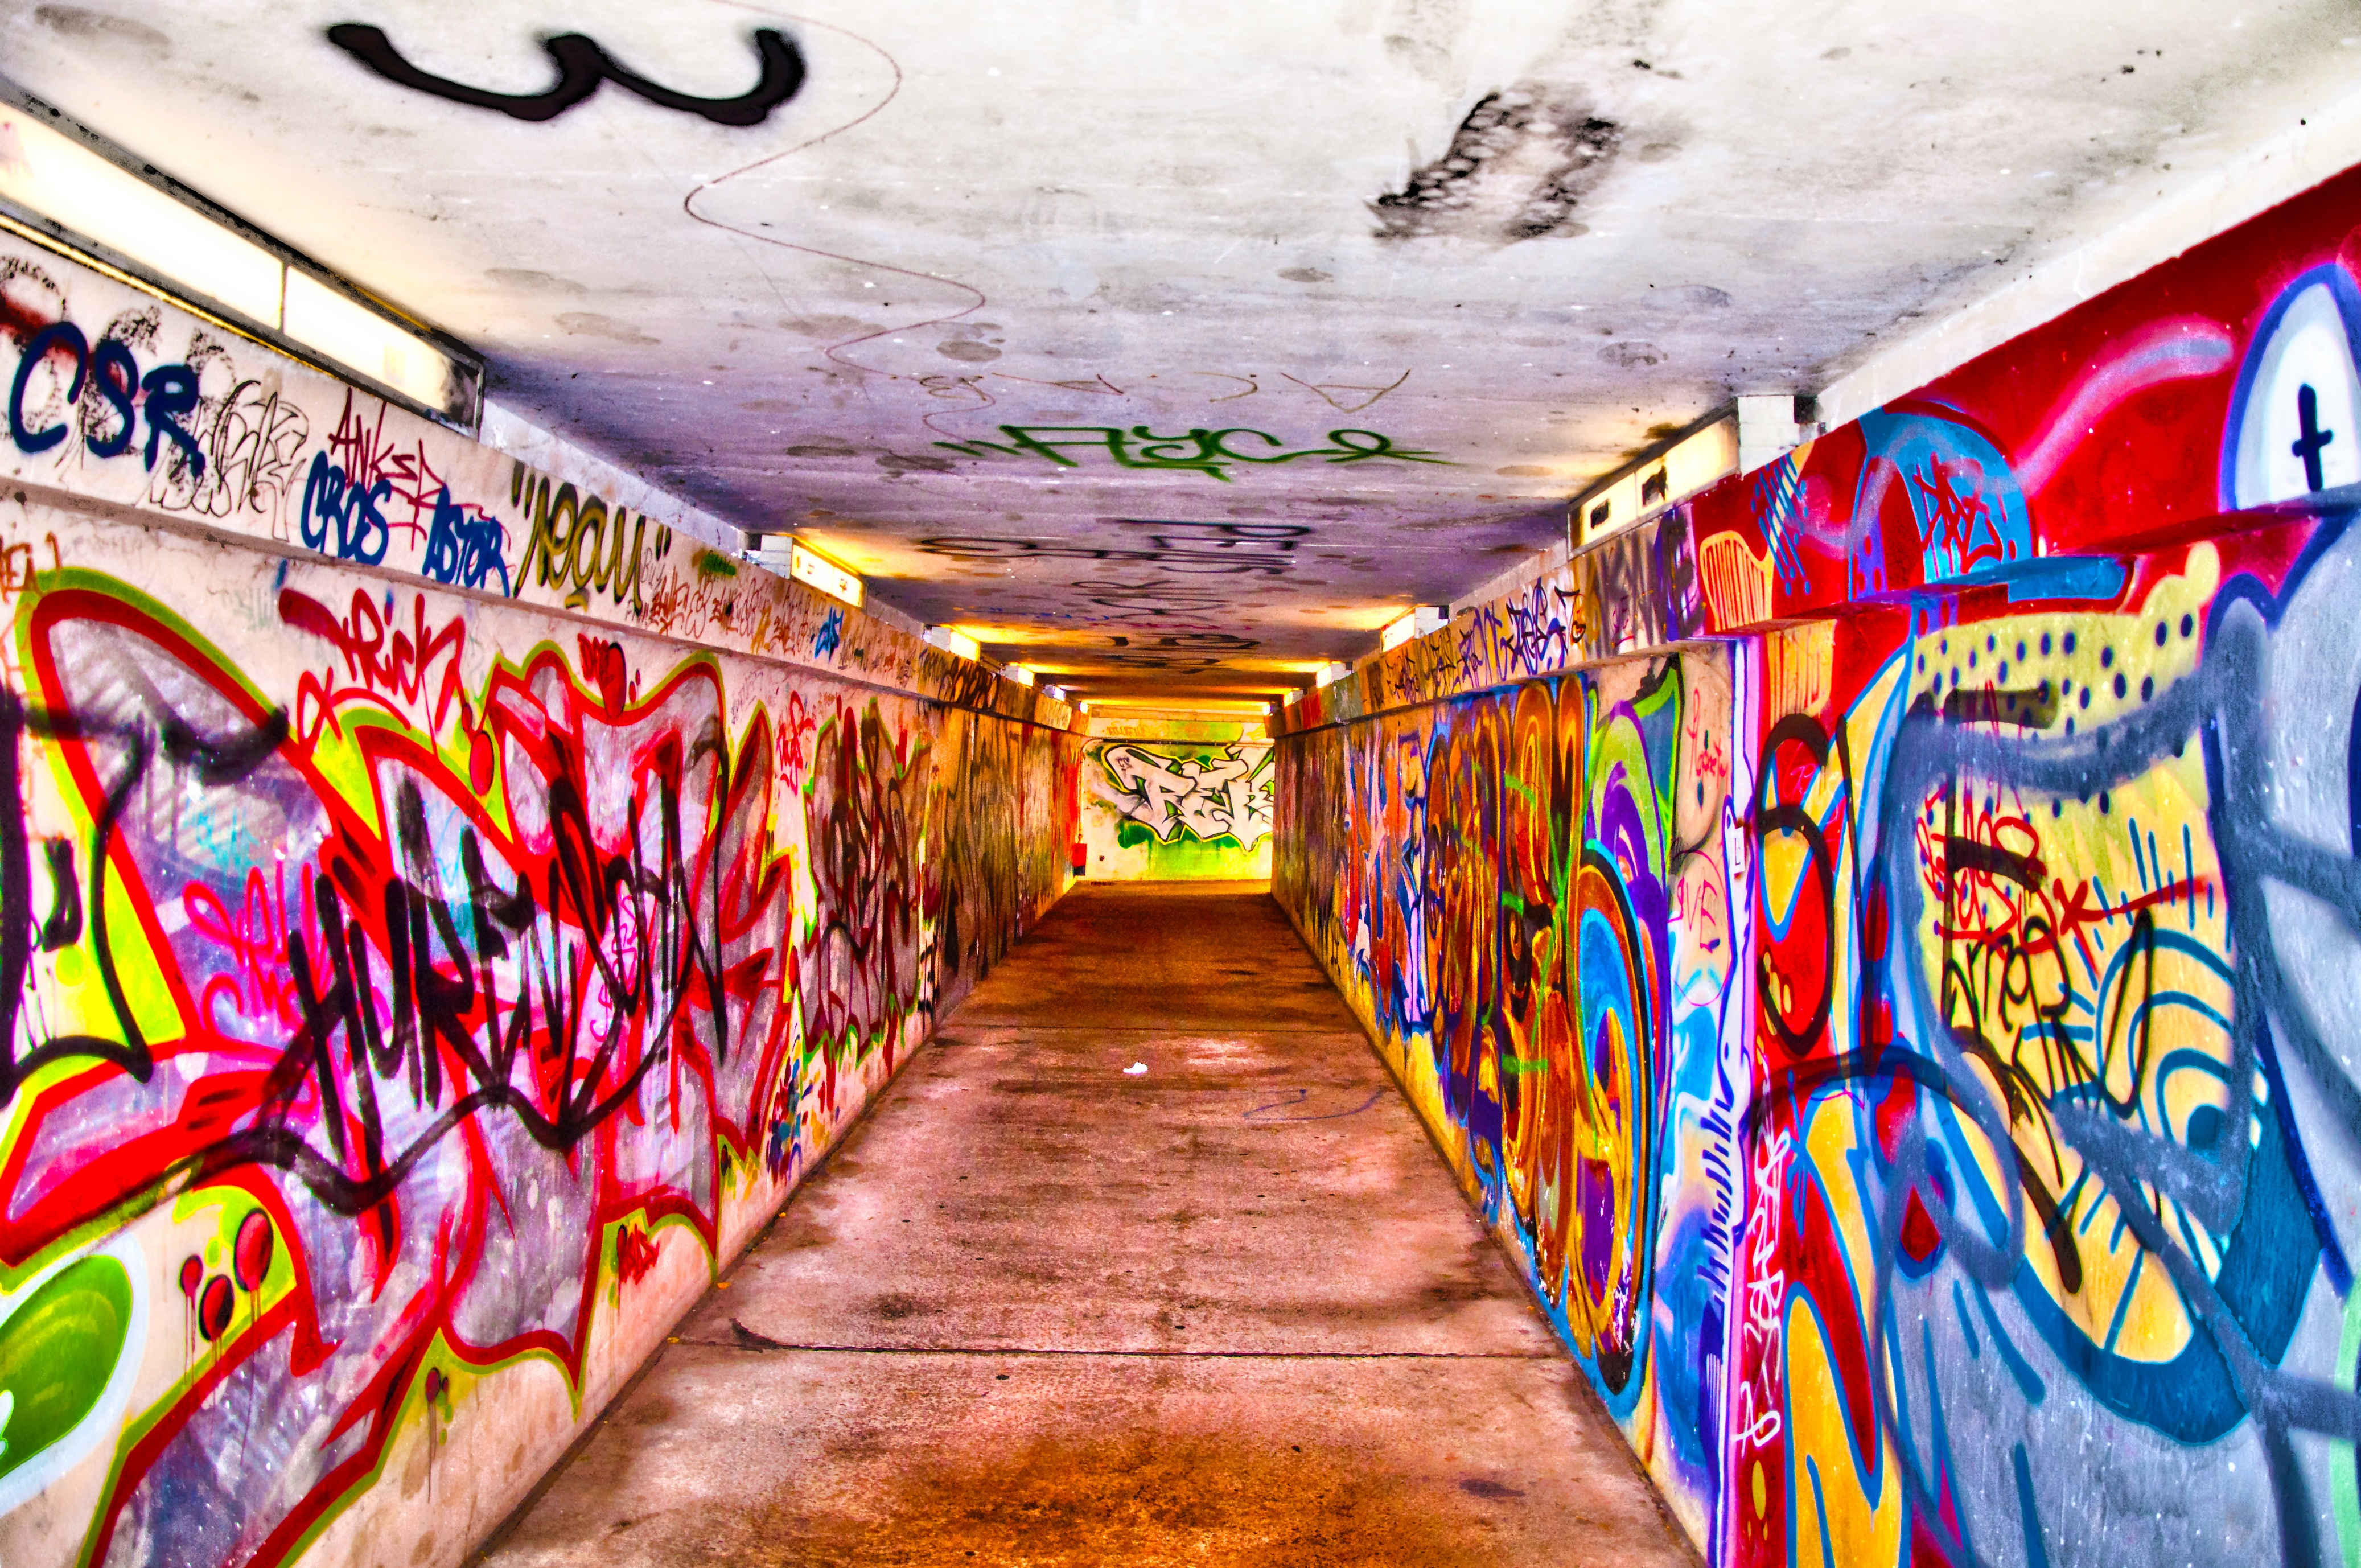graphite: (0, 682, 719, 1568), (1726, 621, 2361, 1568), (1510, 717, 1754, 1456), (329, 0, 800, 142), (1353, 704, 1498, 1074), (802, 712, 947, 1080), (971, 417, 1409, 507), (21, 310, 229, 495), (273, 383, 404, 569), (522, 460, 655, 630), (1104, 733, 1271, 858), (938, 717, 1027, 924), (1594, 523, 1734, 648), (1272, 709, 1348, 922), (429, 471, 513, 604), (670, 560, 789, 653), (809, 591, 921, 689), (1372, 644, 1554, 696), (1500, 597, 1580, 674), (917, 644, 1003, 710)
